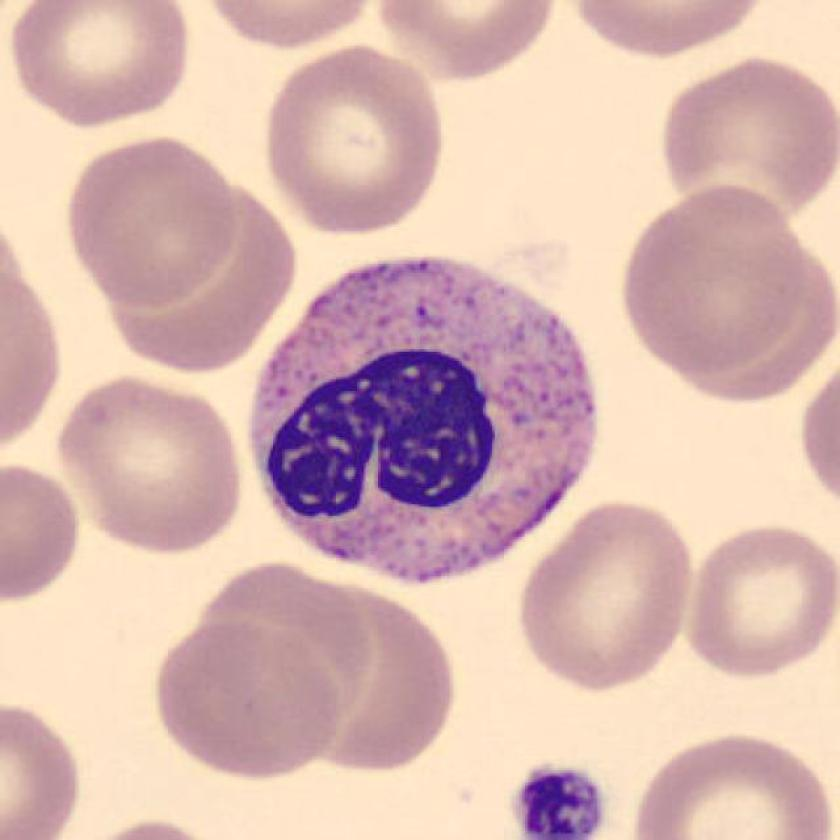neutrophil: (251, 260, 596, 581)
